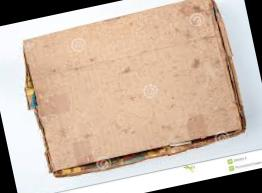Kertas: (23, 0, 245, 176)
